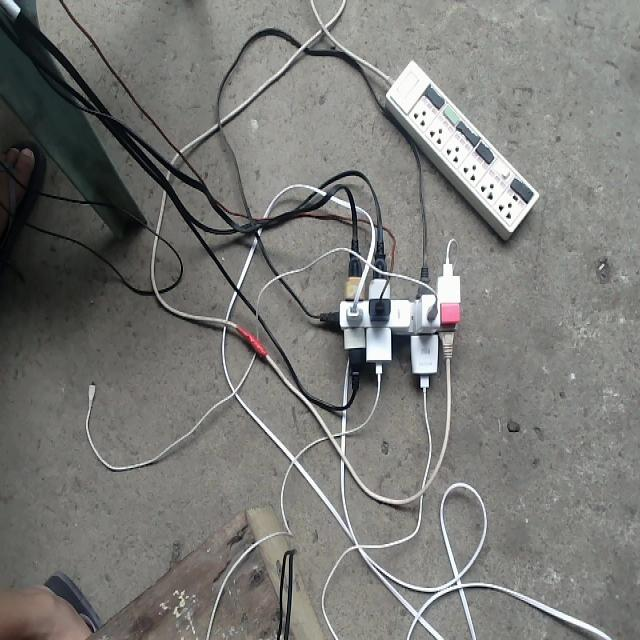-: (316, 235, 465, 392)
